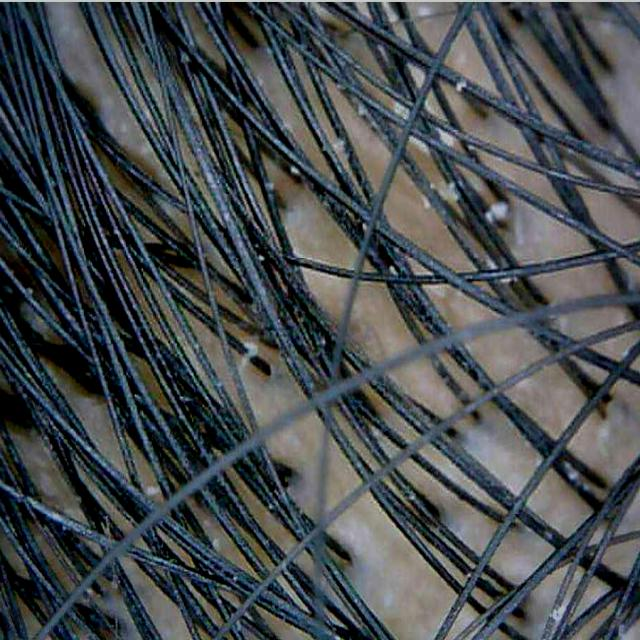d: (483, 200, 511, 226), (430, 180, 460, 204), (239, 340, 259, 374), (409, 135, 429, 152), (411, 66, 426, 88), (439, 129, 455, 147), (455, 78, 468, 94), (290, 165, 300, 174), (424, 199, 431, 209)
ds: (462, 405, 524, 479)
